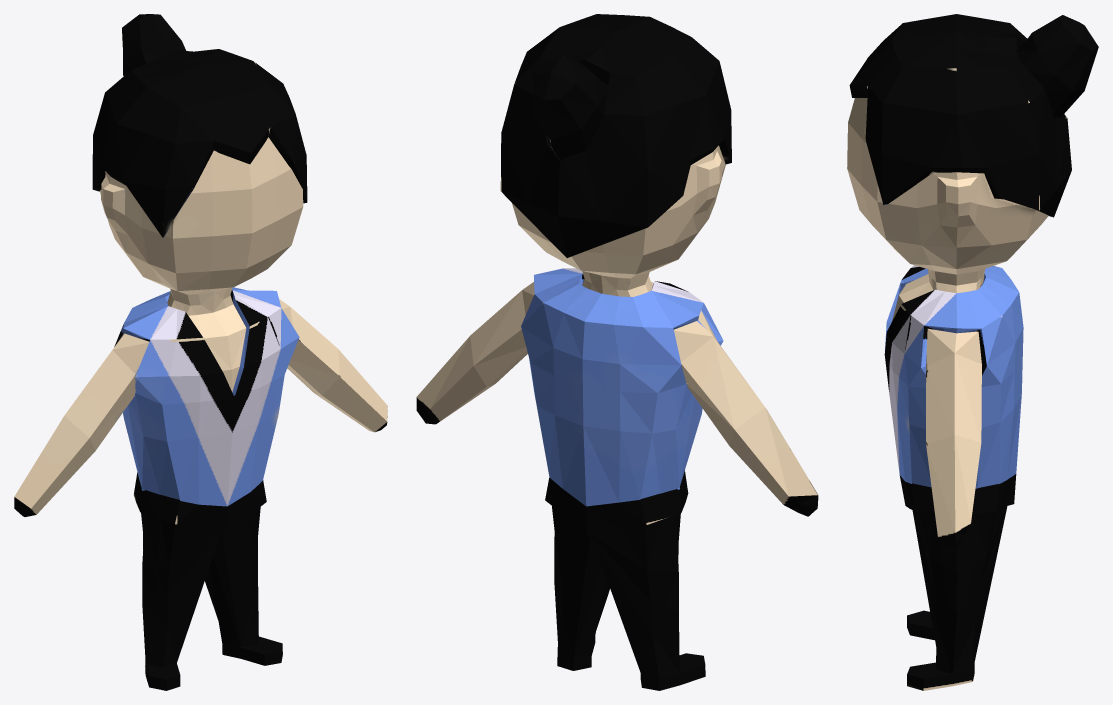
Rendered from role_test_v3.fbx.
3 renders of one model, left to right at view 1: azimuth 30°, elevation 25°; view 2: azimuth 150°, elevation 25°; view 3: azimuth 270°, elevation 25°, orthographic. The views are drawn at different scales.
Parts seen in each view (by area): view 1: model; view 2: model; view 3: model.
Part boxes in pixels (bbox=[...]): model: bbox=[14, 14, 387, 690]; model: bbox=[416, 14, 818, 690]; model: bbox=[847, 14, 1098, 690].
Size of the model in its own units: 290 by 453 by 161.
1 material, 1 textured.
